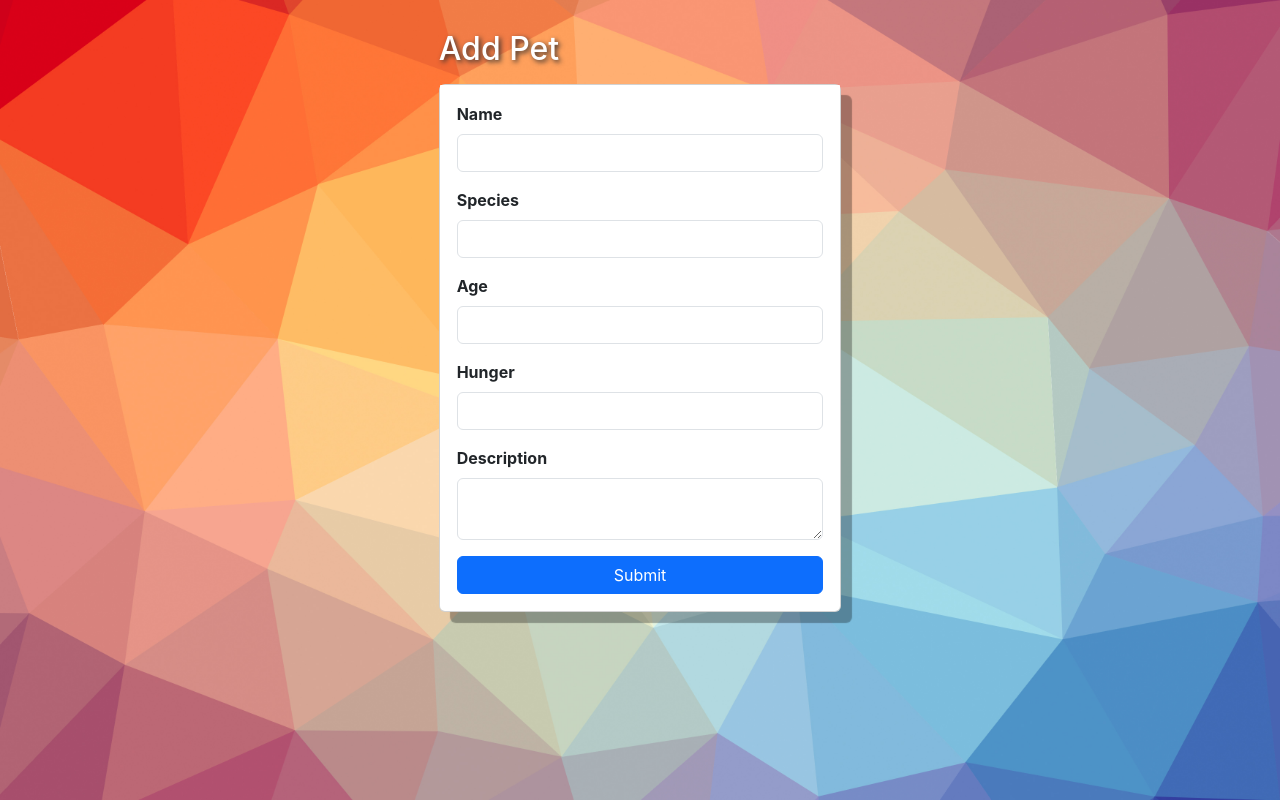
Test: <PetForm /> › handles API errors and displays an alert
The width and height of the screenshot is (1280, 800).
Click the button "Submit".
click(640, 575)  # box [457,556,823,594]
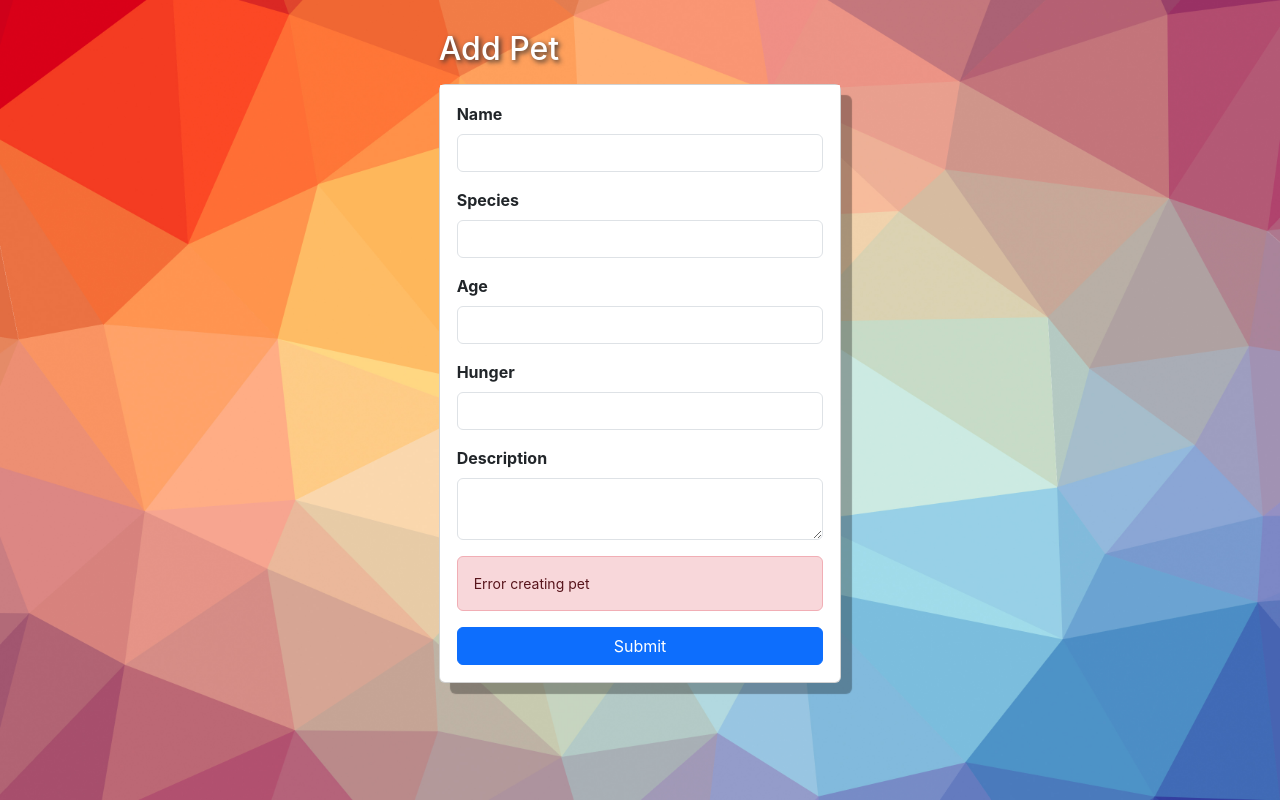
Result: the text "Error creating pet" is shown at [474,575,590,592]
